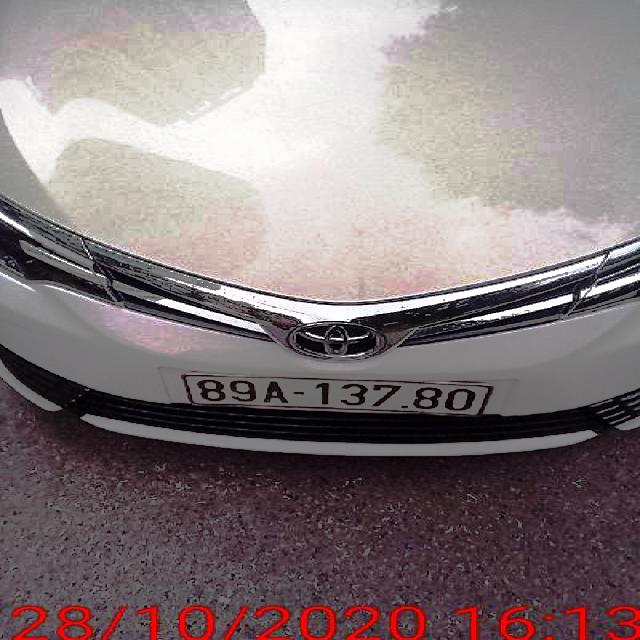license_plate: (184, 378, 498, 414)
